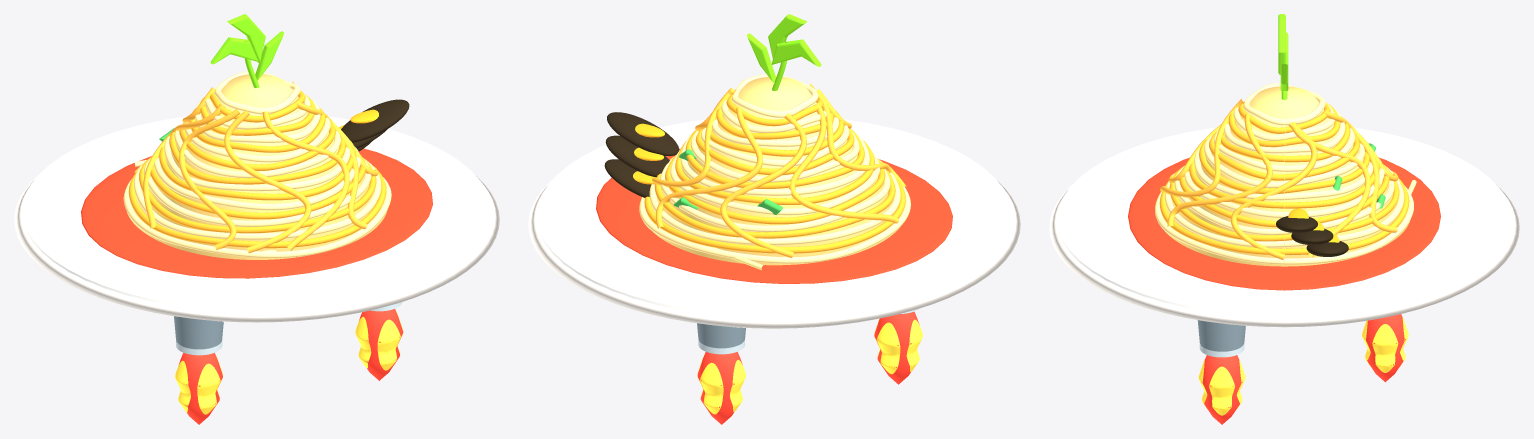
Rendered from ship-14.glb.
3 renders of one model, left to right at view 1: azimuth 30°, elevation 25°; view 2: azimuth 150°, elevation 25°; view 3: azimuth 270°, elevation 25°, orthographic. The views are drawn at different scales.
Visible parts, largest first — view 1: 세몰리나, engine-flame (×2); view 2: 세몰리나, engine-flame (×2); view 3: 세몰리나, engine-flame (×2).
Part boxes in pixels (x1,y1,x2,y2): 세몰리나: (14, 14, 499, 355); engine-flame (×2): (175, 309, 403, 424); 세몰리나: (528, 14, 1020, 354); engine-flame (×2): (697, 311, 922, 424); 세몰리나: (1049, 14, 1519, 357); engine-flame (×2): (1198, 314, 1408, 424).
Size of the model in its own units: 27 by 22.61 by 27.
